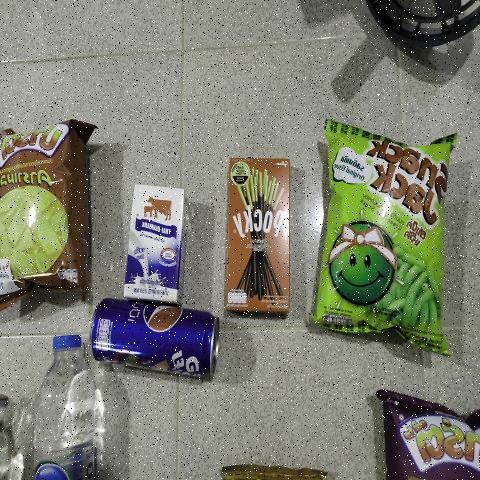party_red: (0, 132, 89, 292)
pepsi_blue: (93, 296, 219, 383)
pokki: (224, 159, 293, 317)
snack_jack: (325, 136, 443, 324)
thai_denmark: (123, 184, 188, 298)
